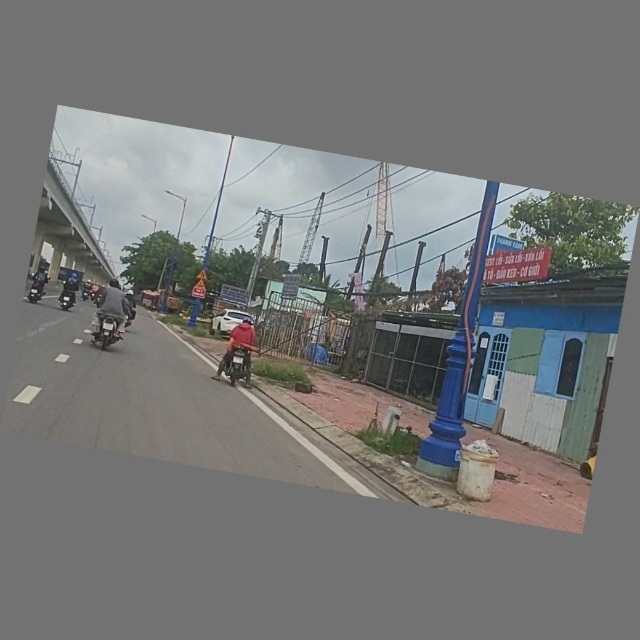W.203c: (197, 270, 210, 281)
W.245a: (194, 279, 208, 290)
